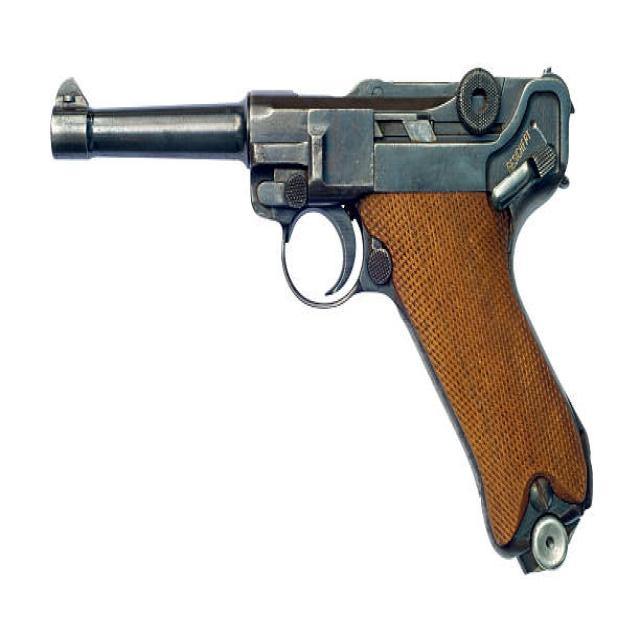pistol: (45, 57, 600, 577)
